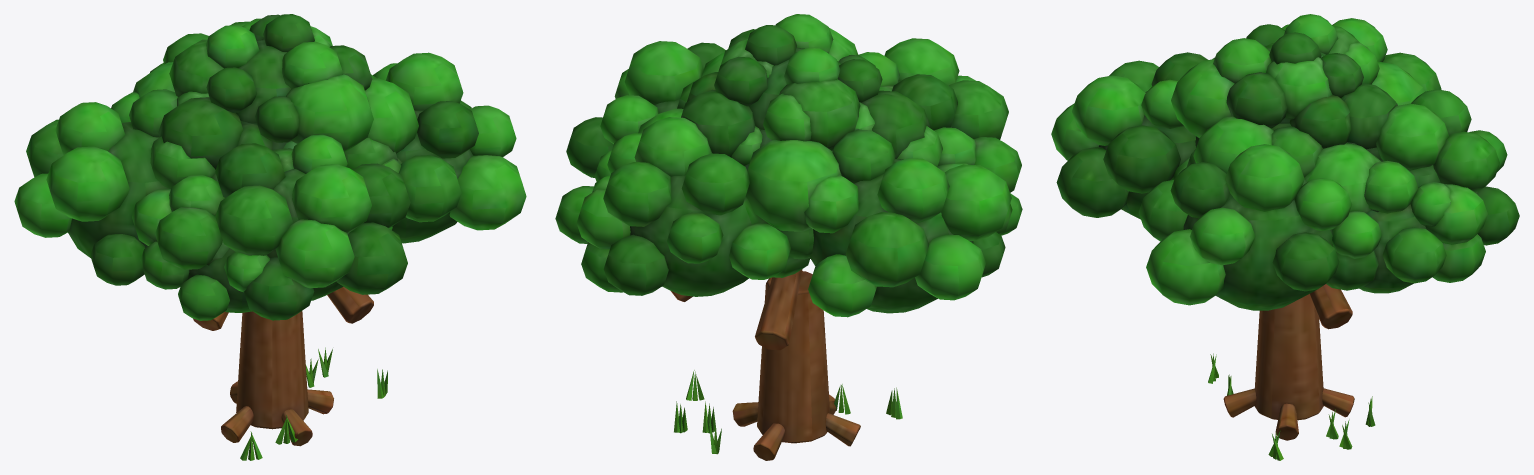
File: cashew_tree.glb
The picture shows the model from 3 angles, left to right: view 1: azimuth 30°, elevation 25°; view 2: azimuth 150°, elevation 25°; view 3: azimuth 270°, elevation 25°; orthographic projection. The views are drawn at different scales.
Visible parts, largest first — view 1: crown, cashew_tree; view 2: crown, cashew_tree; view 3: crown, cashew_tree.
Part boxes in pixels (box(x1,y1,x2,y2)): crown: box(14, 14, 526, 320); cashew_tree: box(193, 287, 387, 460); crown: box(555, 14, 1022, 317); cashew_tree: box(671, 269, 902, 460); crown: box(1051, 14, 1519, 310); cashew_tree: box(1208, 284, 1375, 460).
Size of the model in its own units: 1.43 by 1.27 by 1.38.
Materials: 1 (1 with a texture image).
